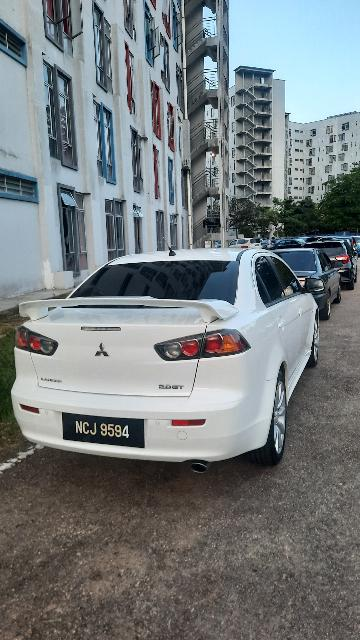License_Plate: (59, 409, 152, 452)
car: (10, 247, 321, 477)
